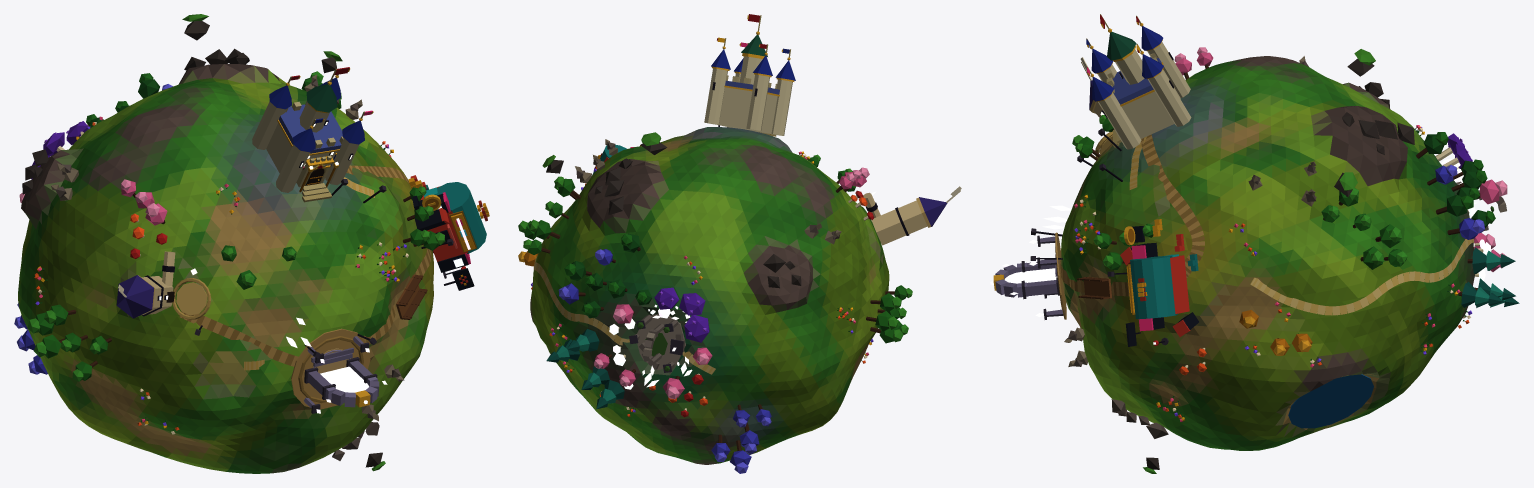
File: games-v2.glb
The picture shows the model from 3 angles, left to right: view 1: azimuth 30°, elevation 25°; view 2: azimuth 150°, elevation 25°; view 3: azimuth 270°, elevation 25°; orthographic projection. The views are drawn at different scales.
Visible parts, largest first — view 1: GAMES_TERRAIN, GAMES_DECORATIONS_STATIC, KINGDOM_CASTLE, PORTAL_PLAZA, SCRIPTORIUM, ARCADE_HALL, GAMES_ACCENTS_GLOW, GAMES_ROAD_PLAZA_SCRIPTORIUM, GAMES_ROAD_PLAZA_VILLAGE; view 2: GAMES_TERRAIN, GAMES_DECORATIONS_STATIC, KINGDOM_CASTLE, SCRIPTORIUM, GAMES_TRAIL_FOREST, GAMES_ACCENTS_GLOW; view 3: GAMES_TERRAIN, GAMES_DECORATIONS_STATIC, KINGDOM_CASTLE, ARCADE_HALL, GAMES_LAKE_WATER, PORTAL_PLAZA, GAMES_TRAIL_FOREST, GAMES_ROAD_VILLAGE_CASTLE, GAMES_ACCENTS_GLOW, GAMES_ROAD_PLAZA_VILLAGE.
Boxes of the visible parts, left/top/right/bottom form: GAMES_TERRAIN: left=18, top=64, right=433, bottom=473; GAMES_DECORATIONS_STATIC: left=14, top=14, right=474, bottom=471; KINGDOM_CASTLE: left=252, top=67, right=373, bottom=202; PORTAL_PLAZA: left=291, top=328, right=379, bottom=413; SCRIPTORIUM: left=116, top=251, right=210, bottom=319; ARCADE_HALL: left=419, top=182, right=489, bottom=272; GAMES_ACCENTS_GLOW: left=67, top=122, right=470, bottom=413; GAMES_ROAD_PLAZA_SCRIPTORIUM: left=179, top=312, right=298, bottom=366; GAMES_ROAD_PLAZA_VILLAGE: left=362, top=248, right=431, bottom=344; GAMES_TERRAIN: left=530, top=127, right=889, bottom=464; GAMES_DECORATIONS_STATIC: left=518, top=125, right=912, bottom=473; KINGDOM_CASTLE: left=704, top=14, right=795, bottom=136; SCRIPTORIUM: left=863, top=186, right=961, bottom=245; GAMES_TRAIL_FOREST: left=533, top=256, right=715, bottom=374; GAMES_ACCENTS_GLOW: left=609, top=191, right=876, bottom=389; GAMES_TERRAIN: left=1060, top=56, right=1475, bottom=450; GAMES_DECORATIONS_STATIC: left=1030, top=47, right=1519, bottom=473; KINGDOM_CASTLE: left=1086, top=14, right=1191, bottom=149; ARCADE_HALL: left=1126, top=242, right=1189, bottom=331; GAMES_LAKE_WATER: left=1288, top=374, right=1373, bottom=428; PORTAL_PLAZA: left=993, top=232, right=1066, bottom=319; GAMES_TRAIL_FOREST: left=1250, top=238, right=1474, bottom=315; GAMES_ROAD_VILLAGE_CASTLE: left=1141, top=134, right=1204, bottom=277; GAMES_ACCENTS_GLOW: left=990, top=111, right=1491, bottom=344; GAMES_ROAD_PLAZA_VILLAGE: left=1060, top=260, right=1129, bottom=296.
Size of the model in its own units: 10.02 by 10.07 by 11.27.
